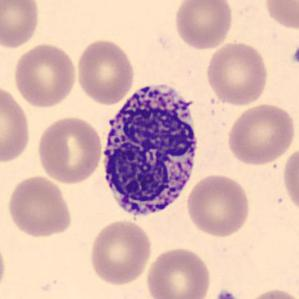Basophil: (95, 74, 203, 227)
Platelets: (213, 288, 240, 299), (289, 44, 299, 67)
RBC: (35, 114, 105, 186), (225, 101, 296, 167), (12, 42, 79, 110), (87, 218, 154, 286), (184, 172, 252, 239), (203, 40, 271, 107), (5, 174, 74, 239), (74, 37, 136, 105), (145, 245, 213, 299), (172, 0, 235, 50), (0, 83, 32, 166), (0, 0, 41, 50), (281, 143, 299, 217), (261, 0, 299, 32), (243, 286, 298, 299), (0, 236, 8, 296)
